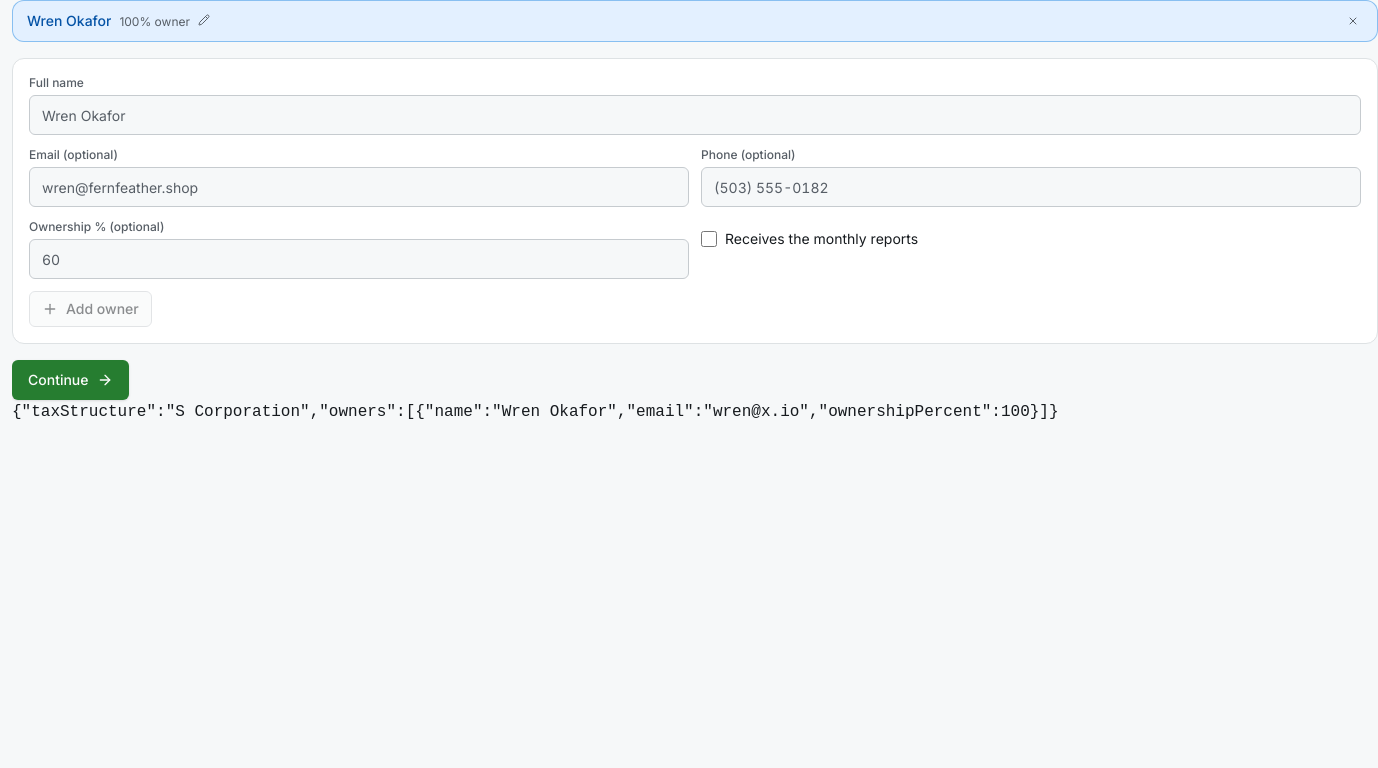
Test: J6: every_committed_item_editable (09_30 00:01:54) › committed_card_expands_and_edits_inline - click, change, save
The width and height of the screenshot is (1378, 768).
Click the button with test id "entity-edit-0" at (69, 20), box [27,11,1335,31]
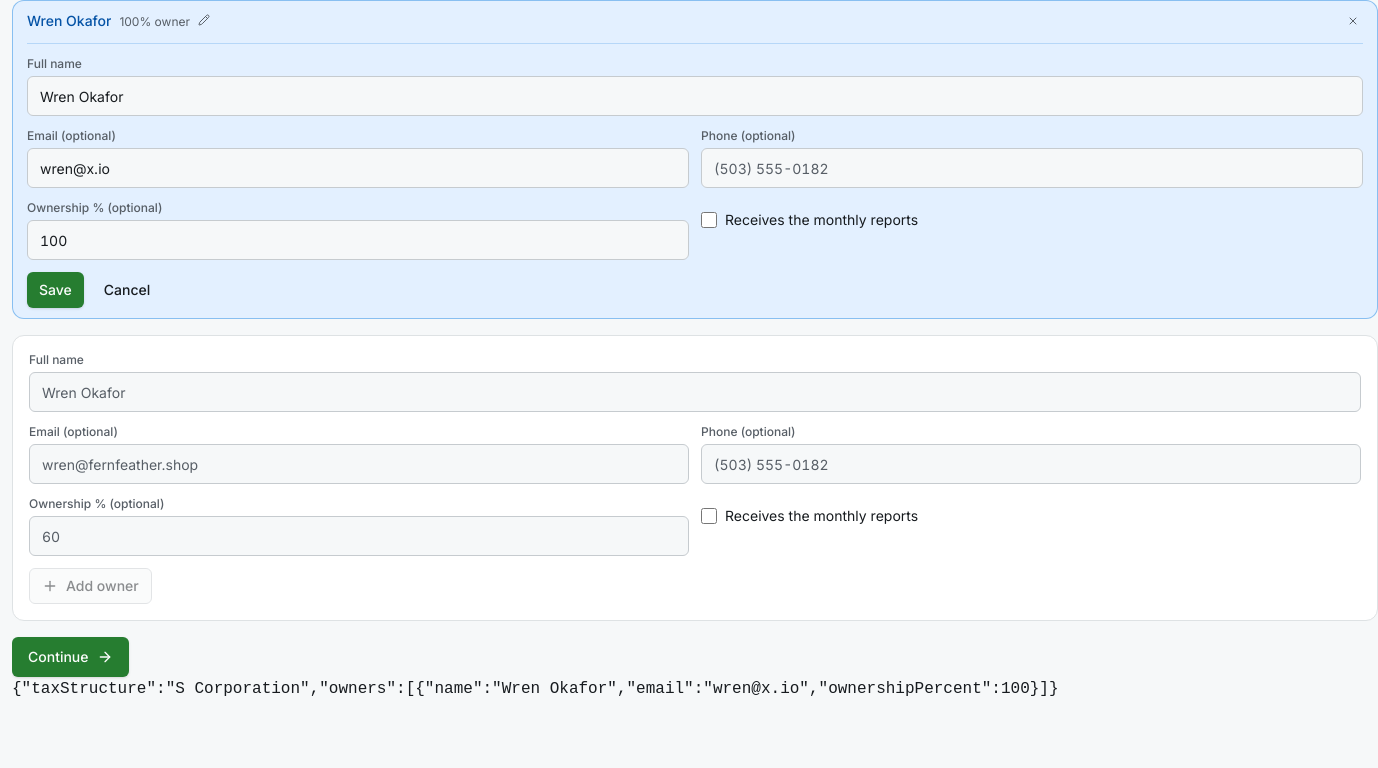
Expected: the element with test id "entity-edit-form-0" is shown, [27,43,1363,308]
Expected: the field named "Email (optional)" holds "wren@x.io"
Replace the text in the field named "Email (optional)" with "wren.okafor@x.io" at (358, 168), box [27,148,689,188]
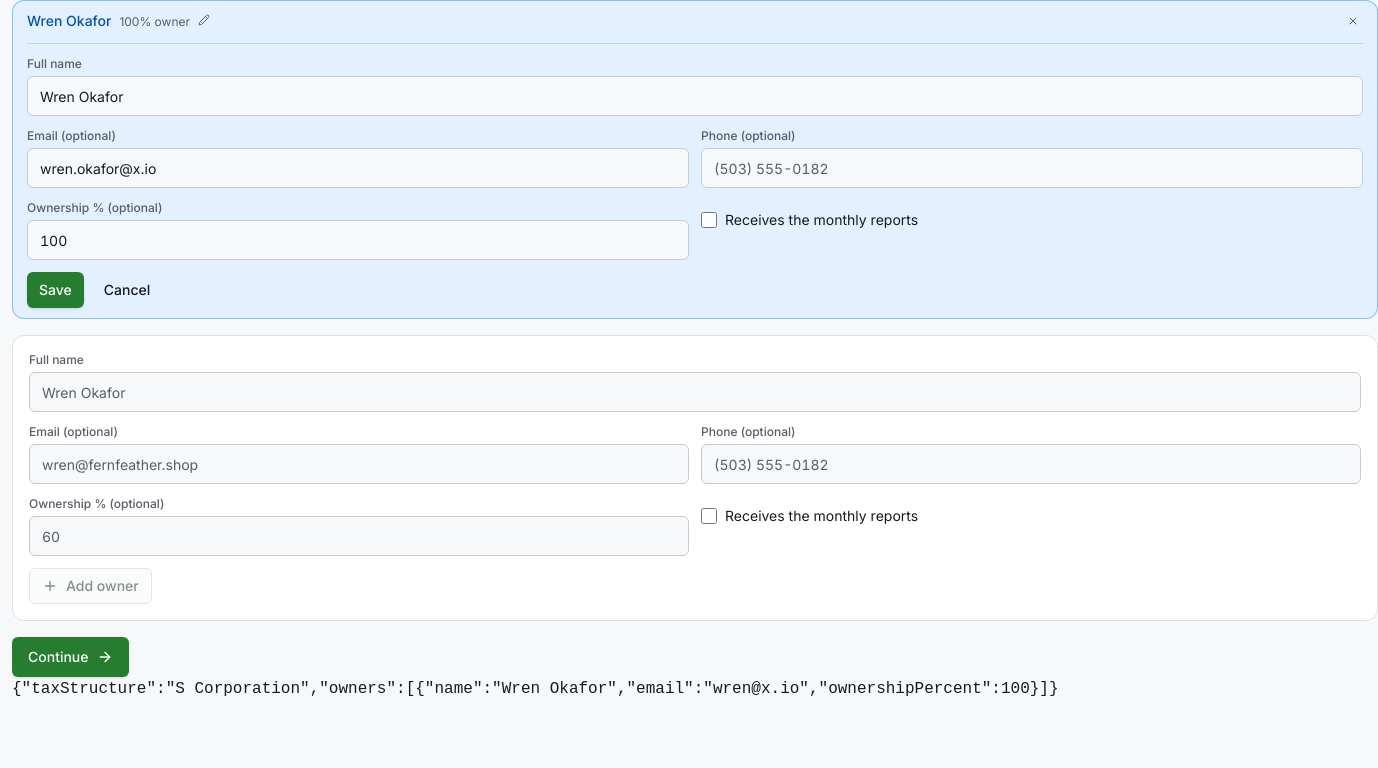
Click the button with test id "entity-edit-save-0" at (55, 290), box [27,272,84,308]
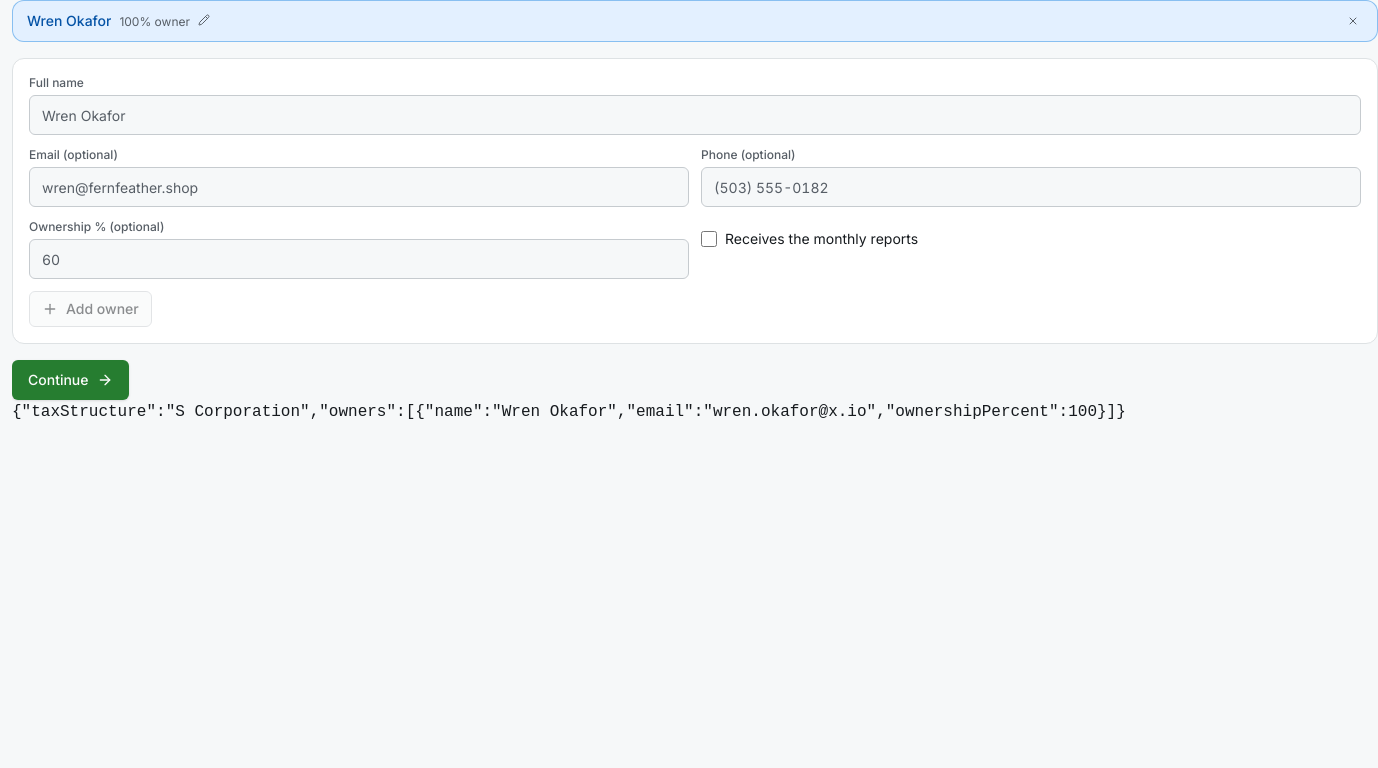
Expected: the element with test id "entity-edit-form-0" is gone
